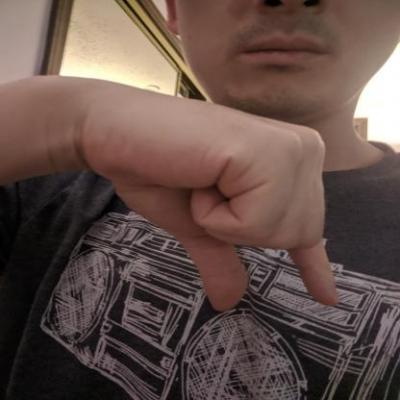hand: (85, 76, 345, 316)
